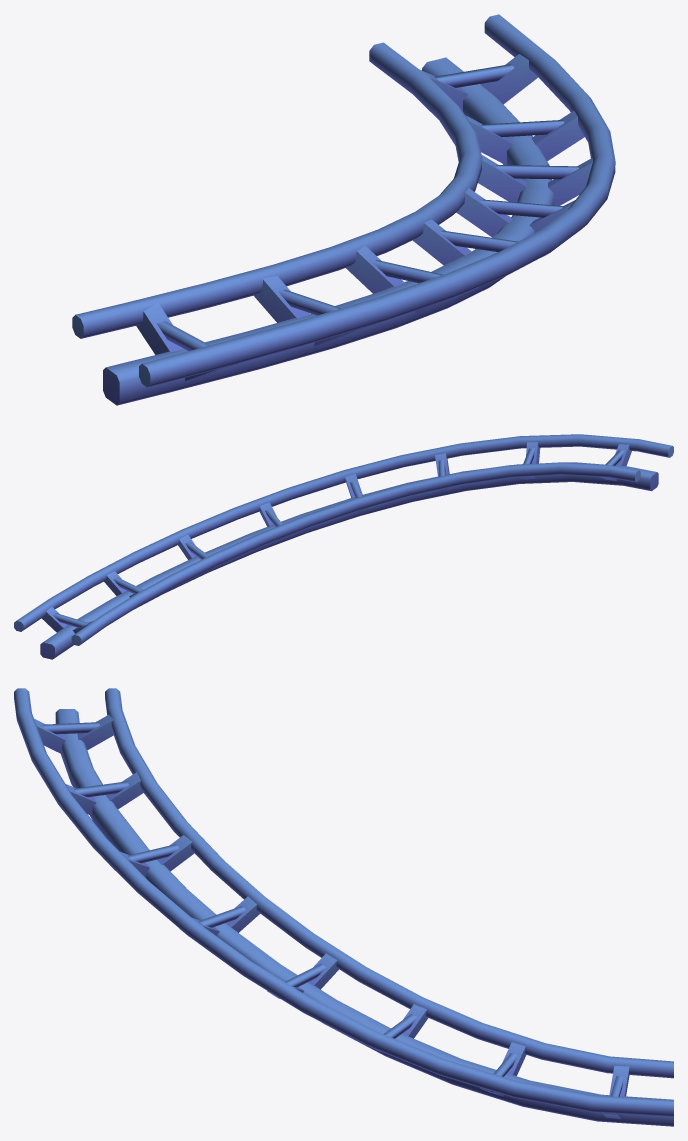
File: coaster-steel-corner-large-ramp.glb
The picture shows the model from 3 angles, top to bottom: view 1: azimuth 30°, elevation 25°; view 2: azimuth 150°, elevation 25°; view 3: azimuth 270°, elevation 25°; orthographic projection. The views are drawn at different scales.
Parts seen in each view (by area): view 1: coaster-steel-corner-large-ramp; view 2: coaster-steel-corner-large-ramp; view 3: coaster-steel-corner-large-ramp.
Boxes of the visible parts, <box> form: coaster-steel-corner-large-ramp: <box>72,14,615,405</box>; coaster-steel-corner-large-ramp: <box>14,434,673,659</box>; coaster-steel-corner-large-ramp: <box>14,688,673,1126</box>.
Bounding box in the file's own units: 4.35 × 1.3 × 4.35.
1 material, 1 textured.
